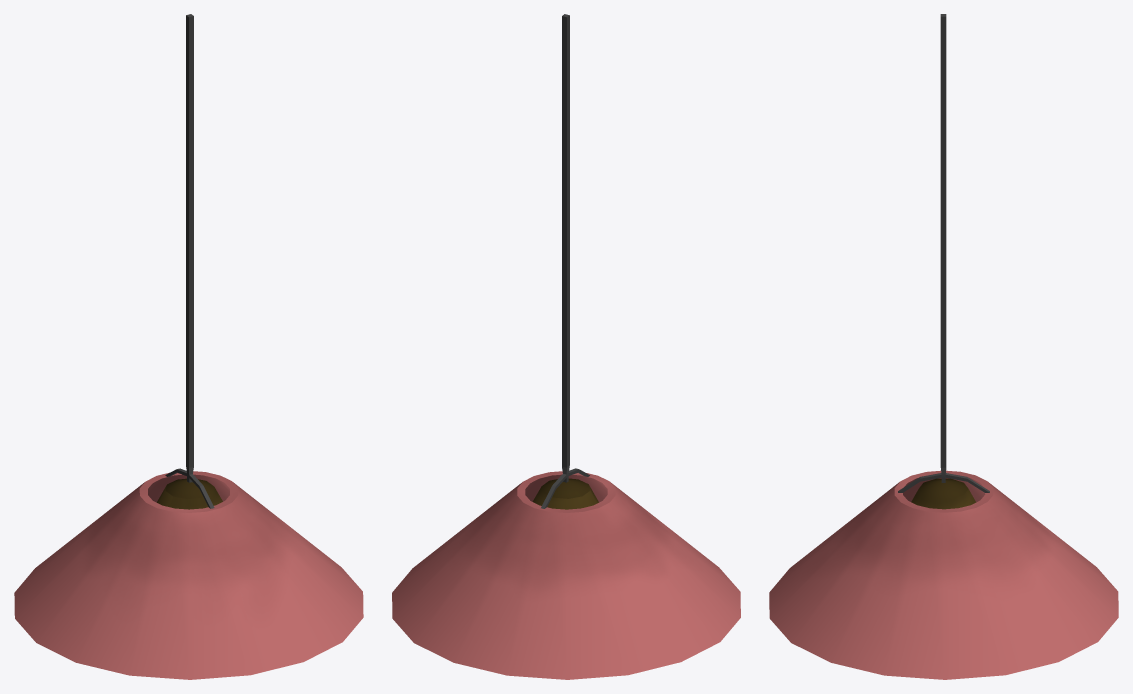
The model's file is ceilinglampwholefbx.FBX.
3 renders of one model, left to right at view 1: azimuth 30°, elevation 25°; view 2: azimuth 150°, elevation 25°; view 3: azimuth 270°, elevation 25°, orthographic.
Visible parts, largest first — view 1: Sphere001; view 2: Sphere001; view 3: Sphere001.
Boxes of the visible parts, box(x1,y1,x2,y2) form: Sphere001: box(14, 14, 363, 679); Sphere001: box(392, 14, 740, 679); Sphere001: box(769, 14, 1118, 679).
Bounding box in the file's own units: 72.78 × 138 × 71.77.
1 material, 1 textured.
